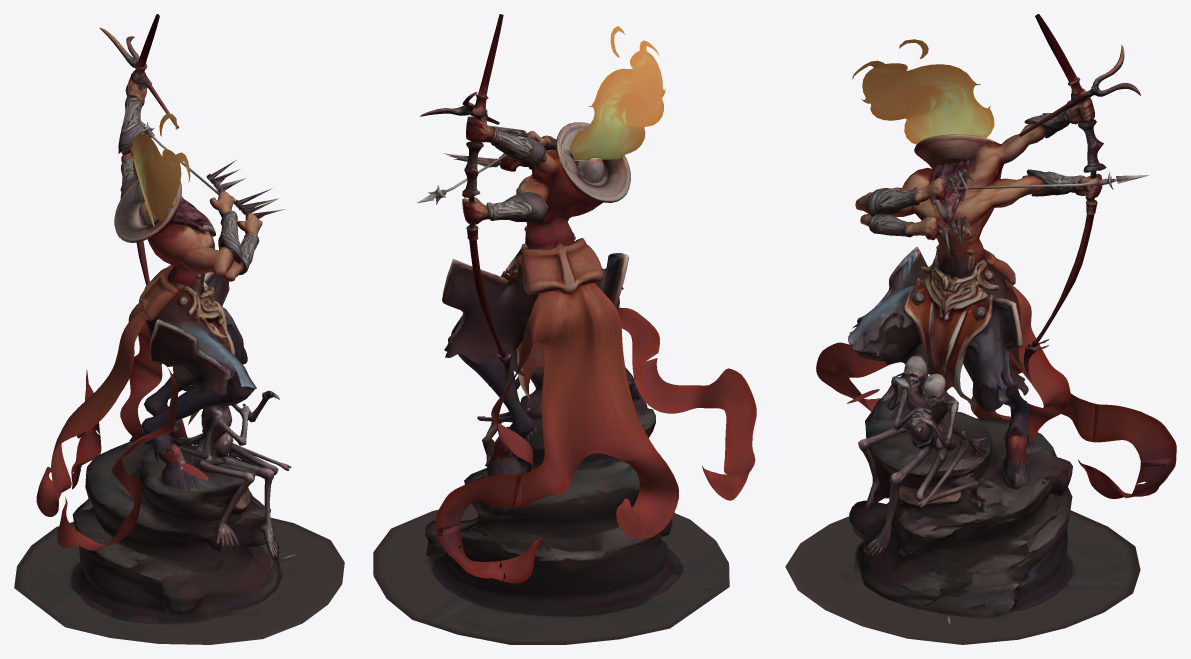
File: lovers.glb
3 renders of one model, left to right at view 1: azimuth 30°, elevation 25°; view 2: azimuth 150°, elevation 25°; view 3: azimuth 270°, elevation 25°, orthographic. The views are drawn at different scales.
Parts seen in each view (by area): view 1: tripo_node_6e4383ac-f4b9-4c71-8f3d-8d00aabaafc6; view 2: tripo_node_6e4383ac-f4b9-4c71-8f3d-8d00aabaafc6; view 3: tripo_node_6e4383ac-f4b9-4c71-8f3d-8d00aabaafc6.
Boxes of the visible parts, x1=… form: tripo_node_6e4383ac-f4b9-4c71-8f3d-8d00aabaafc6: x1=14, y1=14, x2=344, y2=644; tripo_node_6e4383ac-f4b9-4c71-8f3d-8d00aabaafc6: x1=373, y1=14, x2=756, y2=644; tripo_node_6e4383ac-f4b9-4c71-8f3d-8d00aabaafc6: x1=785, y1=14, x2=1176, y2=644.
Size of the model in its own units: 0.5751 by 0.9995 by 0.6331.
1 material, 1 textured.
